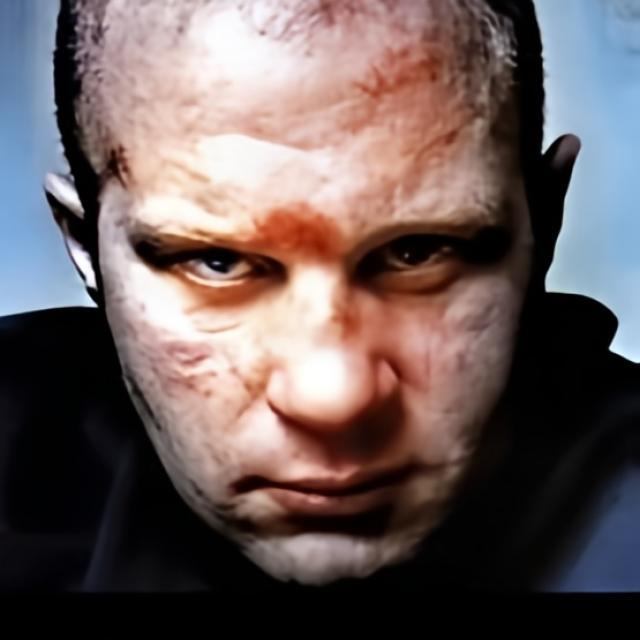anger: (112, 71, 533, 590)
